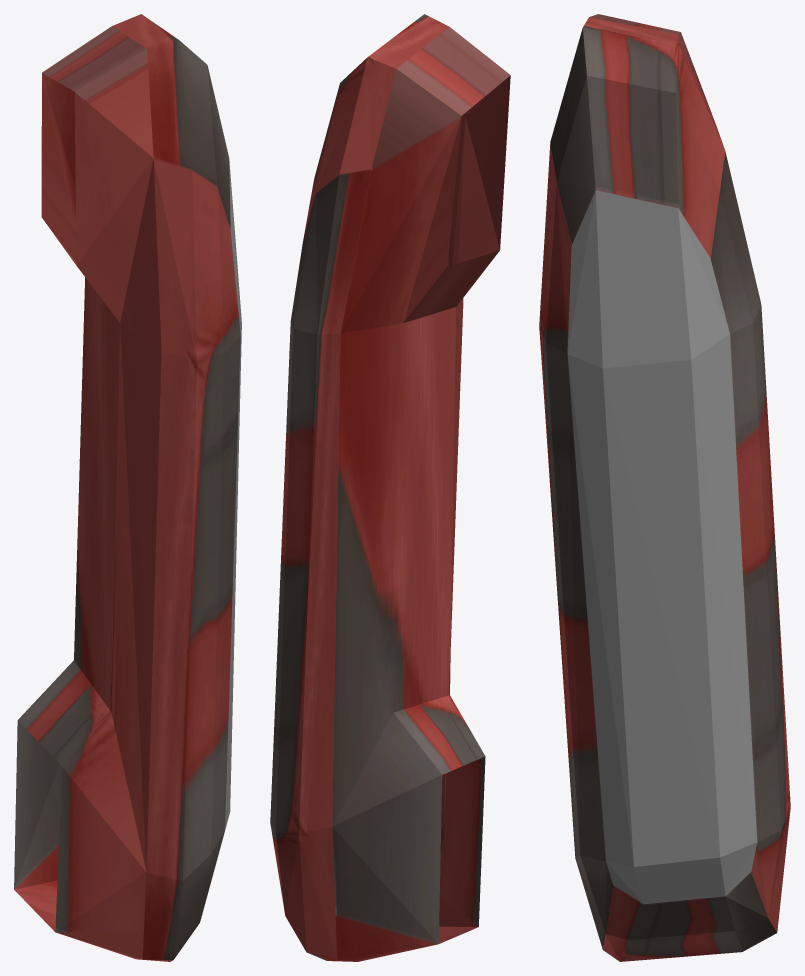
Rendered from Manija.obj.
3 renders of one model, left to right at view 1: azimuth 30°, elevation 25°; view 2: azimuth 150°, elevation 25°; view 3: azimuth 270°, elevation 25°, orthographic. The views are drawn at different scales.
Visible parts, largest first — view 1: Object.1, Object.2; view 2: Object.1; view 3: Object.2, Object.1.
Boxes of the visible parts, box(x1,y1,x2,y2) form: Object.1: box(14, 14, 240, 961); Object.2: box(225, 161, 241, 830); Object.1: box(270, 14, 510, 961); Object.2: box(567, 190, 757, 904); Object.1: box(539, 14, 790, 961).
Bounding box in the file's own units: 0.2907 × 1.42 × 0.3485.
2 materials, 2 textured.
